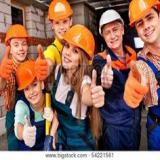Helmet: (60, 23, 94, 61), (128, 0, 160, 27), (16, 60, 43, 90), (99, 9, 124, 37), (4, 24, 30, 47), (48, 0, 73, 20)
